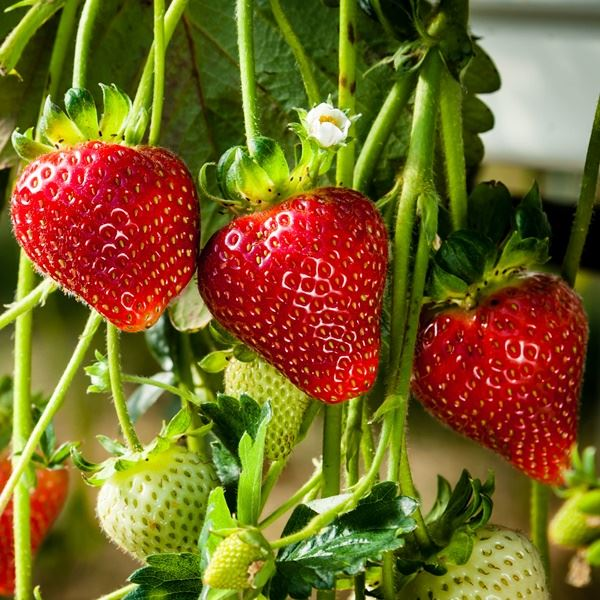ripe: (403, 259, 592, 495), (196, 175, 385, 408), (8, 143, 205, 336), (0, 437, 67, 596)
unripe: (97, 435, 224, 568), (217, 334, 318, 467), (388, 522, 556, 600), (196, 528, 286, 590), (550, 474, 599, 557)
